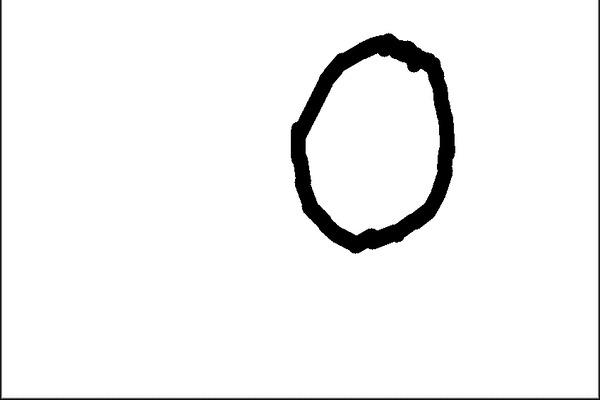O: (278, 23, 473, 271)
